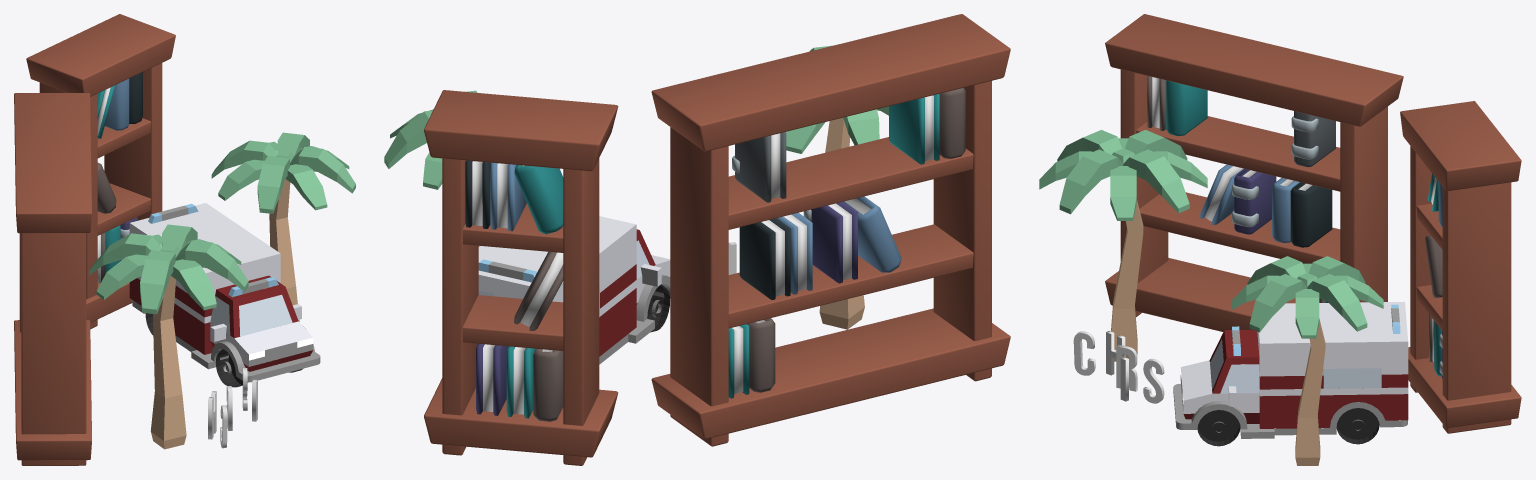
The model's file is landing-scene.glb.
3 renders of one model, left to right at view 1: azimuth 30°, elevation 25°; view 2: azimuth 150°, elevation 25°; view 3: azimuth 270°, elevation 25°, orthographic. The views are drawn at different scales.
Parts seen in each view (by area): view 1: Group 152, Chris.001; view 2: Group 152; view 3: Group 152, Chris.004, Chris, Chris.002, Chris.001.
Boxes of the visible parts, x1,y1,x2,y2 form: Group 152: (14,14,355,465); Chris.001: (208,391,216,439); Group 152: (384,14,1010,465); Group 152: (1039,14,1521,465); Chris.004: (1143,358,1164,403); Chris: (1073,331,1095,375); Chris.002: (1116,344,1137,391); Chris.001: (1106,331,1125,375).
Bounding box in the file's own units: 6.82 × 4.14 × 6.65.
